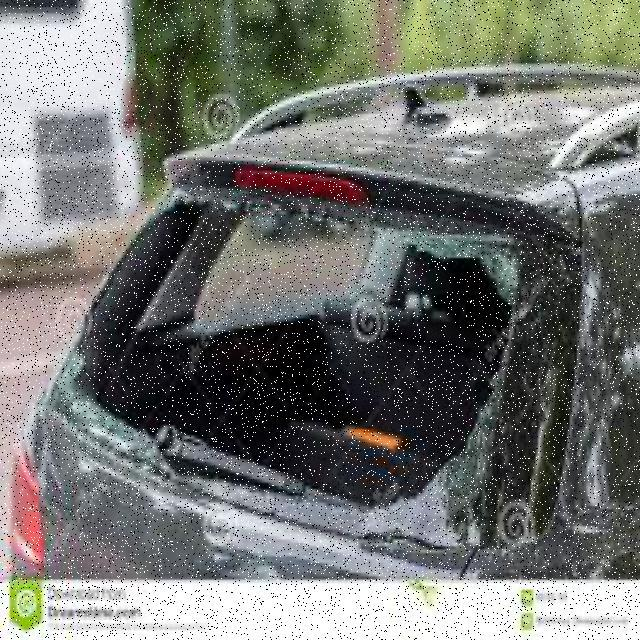Rear-windscreen-Damage: (66, 185, 558, 557)
